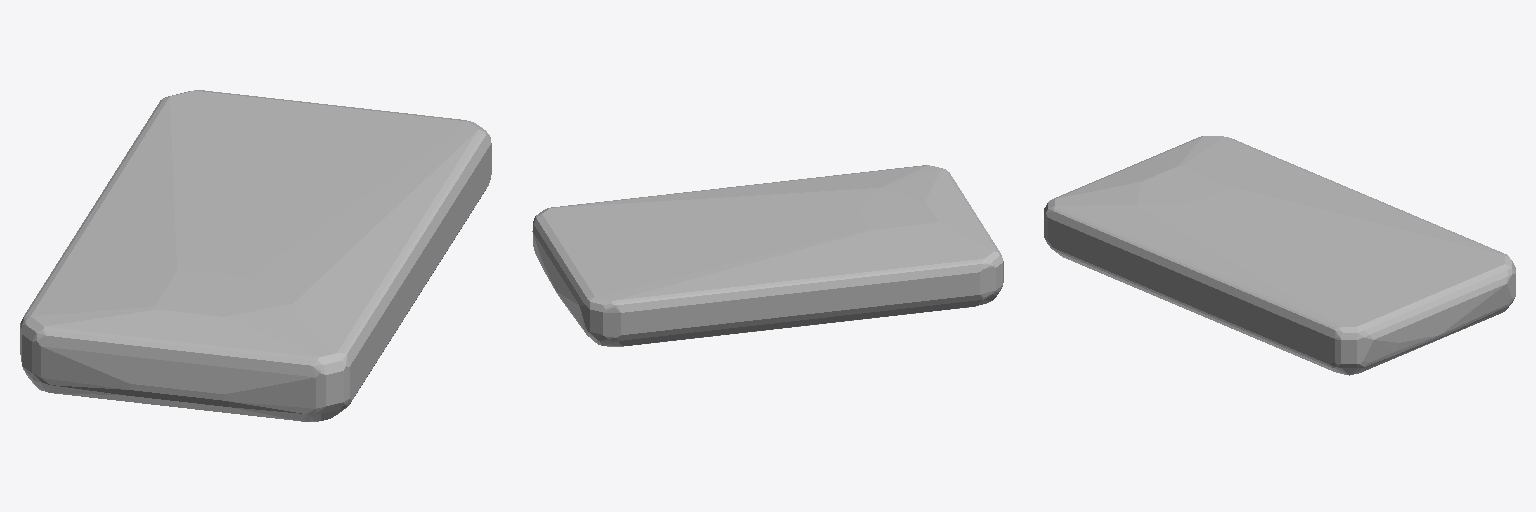
robot.urdf — root:
<robot name="root">
  <link name="link_coacd_convex_piece_0">
    <inertial>
      <origin xyz="0 0 0" rpy="0 0 0"/>
      <inertia ixx="5.78E-02" ixy="-2.94E-02" ixz="1.35E-04" iyy="5.77E-02" iyz="1.60E-04" izz="1.13E-01"/>
    </inertial>
    <visual>
      <origin xyz="0 0 0" rpy="0 0 0"/>
      <geometry>
        <mesh filename="coacd_convex_piece_0.obj" scale="1.0000E+00 1.0000E+00 1.0000E+00"/>
      </geometry>
      <material name="">
        <color rgba="7.50E-01 7.50E-01 7.50E-01 1"/>
      </material>
    </visual>
    <collision>
      <origin xyz="0 0 0" rpy="0 0 0"/>
      <geometry>
        <mesh filename="coacd_convex_piece_0.obj" scale="1.0000E+00 1.0000E+00 1.0000E+00"/>
      </geometry>
    </collision>
  </link>
</robot>

--- Render facts (derived) ---
The picture shows the robot from 3 angles, left to right: view 1: azimuth 30°, elevation 25°; view 2: azimuth 150°, elevation 25°; view 3: azimuth 270°, elevation 25°; orthographic projection.
Model root with 1 links and 0 joints (none), rooted at link_coacd_convex_piece_0, posed every joint at zero.
Visible links, largest first — view 1: link_coacd_convex_piece_0; view 2: link_coacd_convex_piece_0; view 3: link_coacd_convex_piece_0.
Link boxes in pixels (<box>): link_coacd_convex_piece_0: <box>20,90,491,421</box>; link_coacd_convex_piece_0: <box>532,165,1003,346</box>; link_coacd_convex_piece_0: <box>1044,136,1515,375</box>.
Size in the robot's own frame: 1.86 by 1.86 by 0.2431 metres.
Meshes: 1 distinct files referenced, 1 mesh visuals loaded (1 OBJ).
